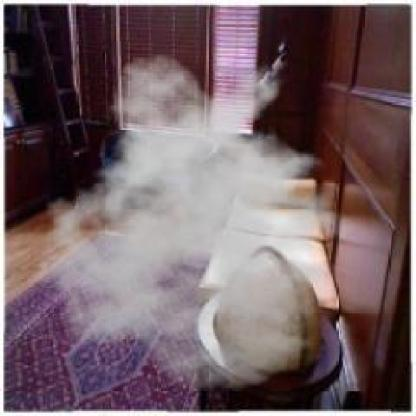Smoke: (24, 52, 376, 392)
